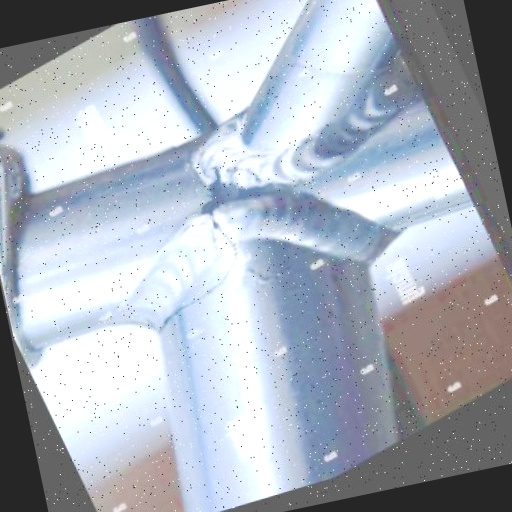crack: (112, 187, 266, 343)
